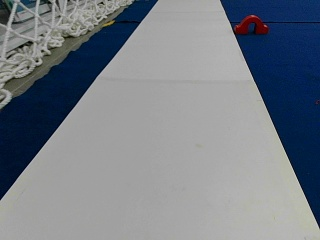bridge: (235, 15, 268, 33)
